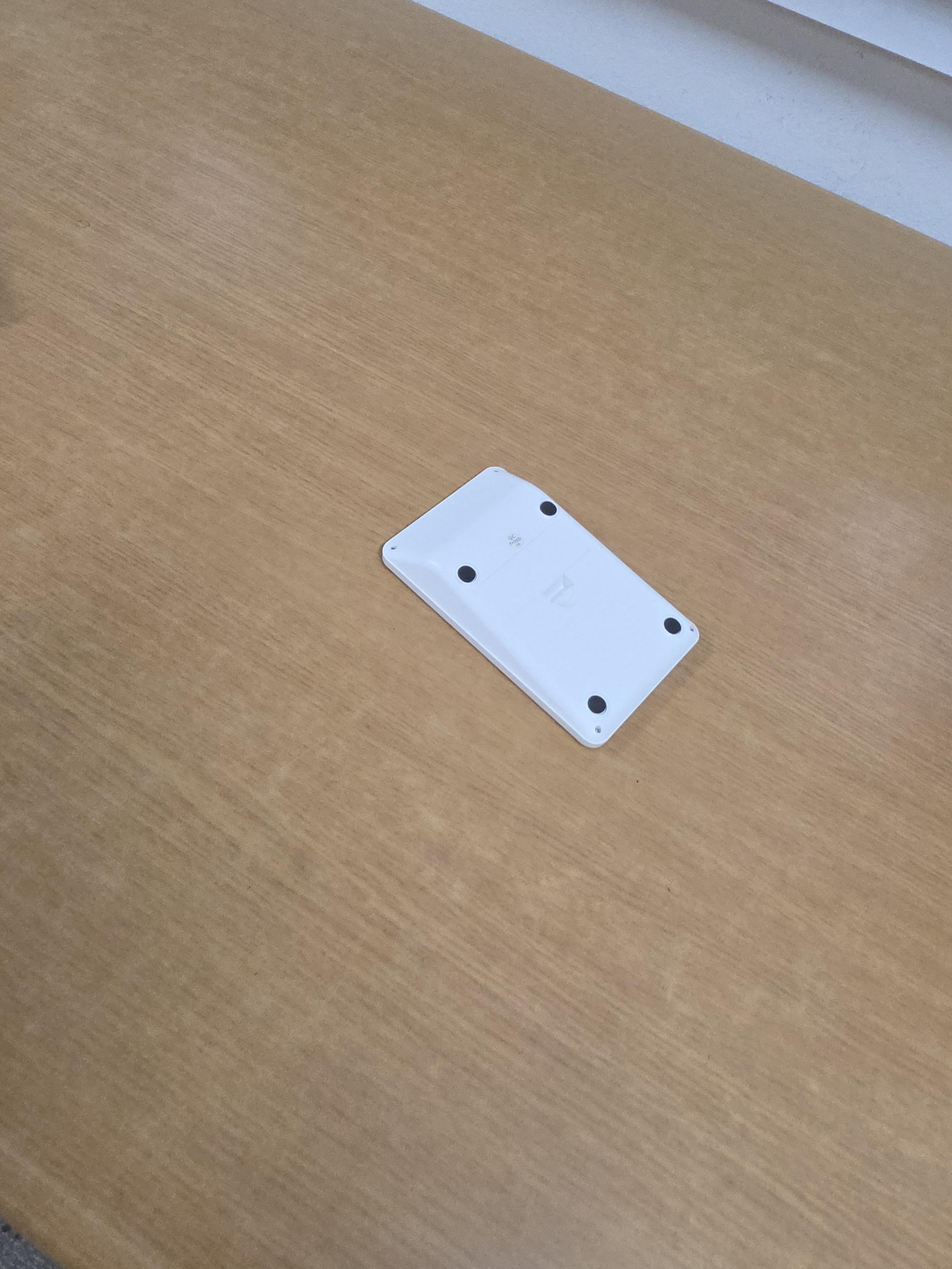calculator: (381, 466, 700, 748)
